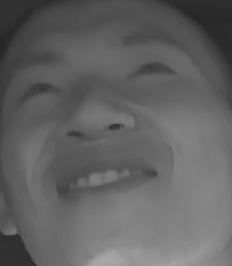eye: (125, 53, 177, 88), (15, 75, 62, 104)
mouth: (45, 153, 172, 209)
